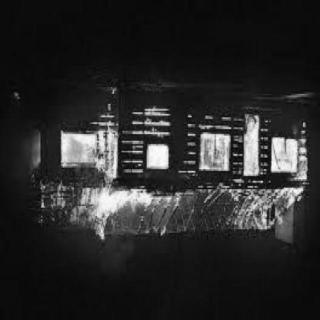Fire: (31, 103, 308, 239), (108, 86, 118, 98)
